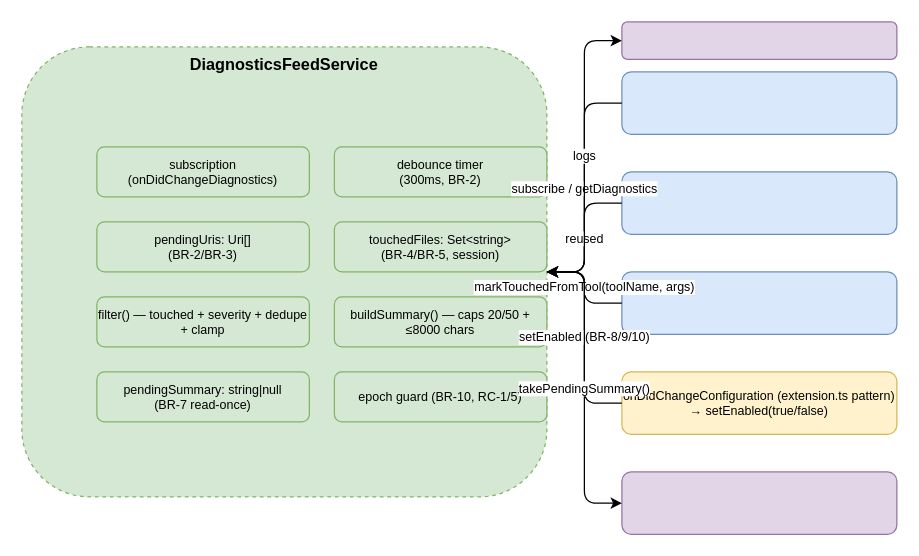
Some shapes in this 919 by 556 pixel diagram are drawn without their labels. The centre of each missing label's shape, as x and y in pixels:
"debug-logger.ts debugLog / debugError [DD-FEED]" belongs at pixel 759 40.
"hook-tool-matcher.ts classifyTool + extractFilePath (reused)" belongs at pixel 759 202.
"HookEngine.firePostToolUse (write checkpoint)" belongs at pixel 759 302.
"inject_diagnostics node takePendingSummary() → diagnosticsContext" belongs at pixel 759 502.
"VS Code LSP (vscode.languages)" belongs at pixel 759 102.
